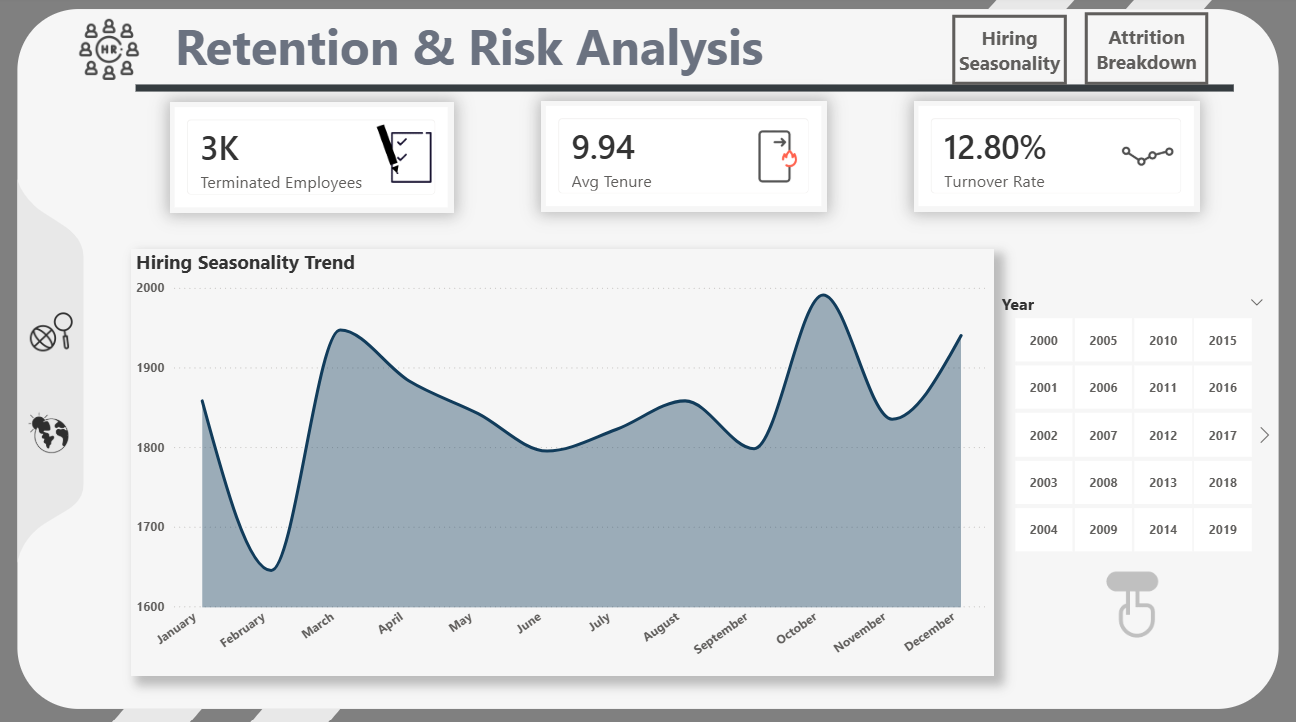

Layout of this report page (visuals, bound fields, positions):
{"tool":"powerbi","page":{"name":"Retention & Risk Analysis","canvas":[1280,720],"ordinal":3},"visuals":[{"type":"textbox","box":[170,11.4,631.4,82.9],"z":0},{"type":"image","box":[81.4,18.6,60,68.6],"z":1000},{"type":"image","box":[25.8,306.8,55.2,56.4],"z":2000},{"type":"cardVisual","fields":{"Data":["Measures_.Terminated Employees"]},"box":[170.3,104.2,279,108.6],"z":5000},{"type":"cardVisual","fields":{"Data":["Measures_.Avg Tenure"]},"box":[534.4,102.8,280.4,108.6],"z":6000},{"type":"cardVisual","fields":{"Data":["Measures_.Turnover Rate"]},"box":[900,102.8,280.4,108.6],"z":7000},{"type":"image","box":[734.1,121.9,67.5,71.9],"z":8000},{"type":"image","box":[1096.8,118.9,67.5,73.4],"z":9000},{"type":"image","box":[361.2,111.6,104.2,94],"z":10000},{"type":"actionButton","title":"Attrition Breakdown","box":[1068.8,16.2,121.2,71.2],"z":11000},{"type":"actionButton","title":"Hiring Seasonality","box":[938.8,18.8,112.5,68.8],"z":12000},{"type":"areaChart","title":"Hiring Seasonality Trend","fields":{"Category":["calender.Month Name"],"Y":["Measures_.Total Hires"]},"box":[133,248.1,847.1,419.4],"z":13000},{"type":"slicer","fields":{"Values":["calender.Year"]},"box":[974.6,286.5,282.4,265.9],"z":14000},{"type":"image","box":[1065,552.4,100.5,95.6],"z":15000},{"type":"image","box":[21.4,397.1,67.1,62.9],"z":16000}]}

Visuals, with their boxes in screenshot pixels (x1, y1, x2, y2), scaled from the page's 1280x720 canvas onto the 1296x722 screenshot:
textbox: box(172, 11, 811, 95)
image: box(82, 19, 143, 87)
image: box(26, 308, 82, 364)
cardVisual - Measures_.Terminated Employees: box(172, 104, 455, 213)
cardVisual - Measures_.Avg Tenure: box(541, 103, 825, 212)
cardVisual - Measures_.Turnover Rate: box(911, 103, 1195, 212)
image: box(743, 122, 812, 194)
image: box(1111, 119, 1179, 193)
image: box(366, 112, 471, 206)
"Attrition Breakdown" actionButton: box(1082, 16, 1205, 88)
"Hiring Seasonality" actionButton: box(951, 19, 1064, 88)
"Hiring Seasonality Trend" areaChart: box(135, 249, 992, 669)
slicer - calender.Year: box(987, 287, 1273, 554)
image: box(1078, 554, 1180, 650)
image: box(22, 398, 90, 461)
